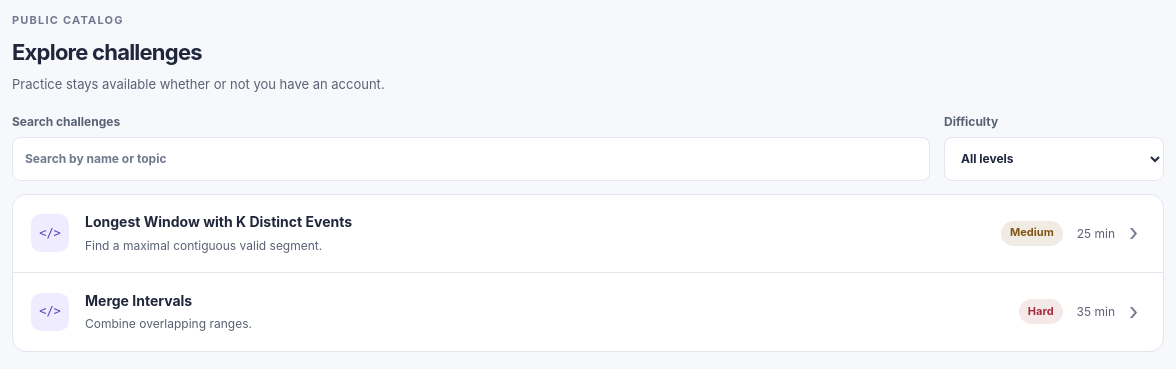
Test: ChallengeList › filters challenge titles and objectives by a case-insensitive search
In the search field labelled "Search challenges": (471, 159) top-left (12, 137), bottom-right (930, 181), type "MAXIMAL"
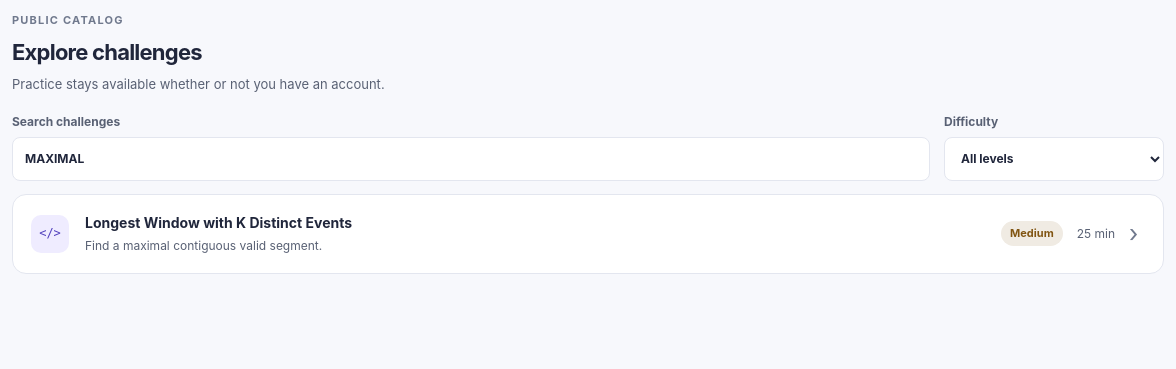
Expected: the text "Longest Window with K Distinct Events" is shown, top-left (85, 214), bottom-right (352, 231)
Result: the text "Merge Intervals" is gone
